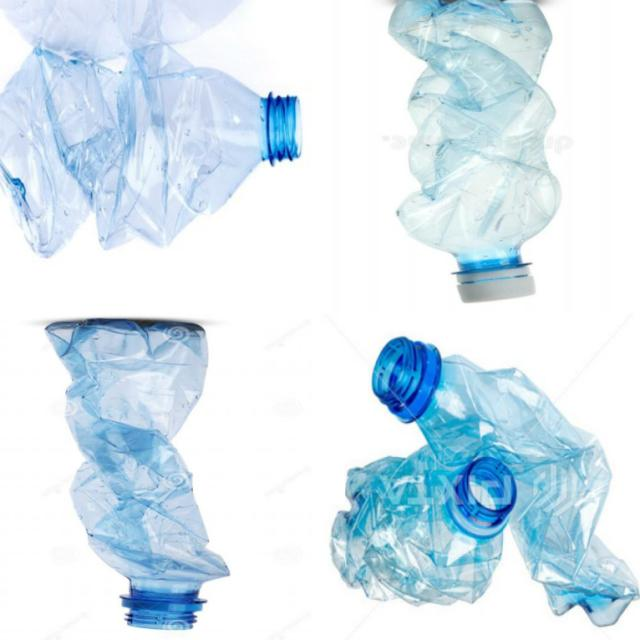plastik: (373, 338, 638, 625), (0, 45, 301, 257), (45, 320, 229, 629), (391, 0, 561, 303), (331, 447, 517, 604)
